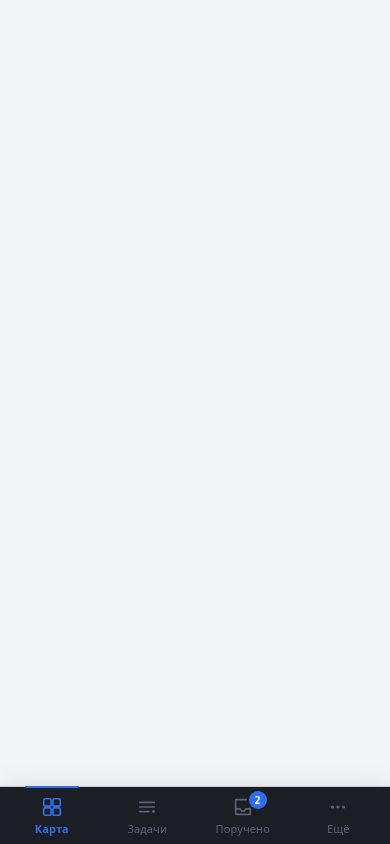
Test: MobileNav › «Ещё» открывает шторку с левой панелью; выбор направления закрывает шторку и открывает карту проектов
The width and height of the screenshot is (390, 844).
Click the button "Ещё": coordinates (338, 816) left=290, top=787, right=386, bottom=843
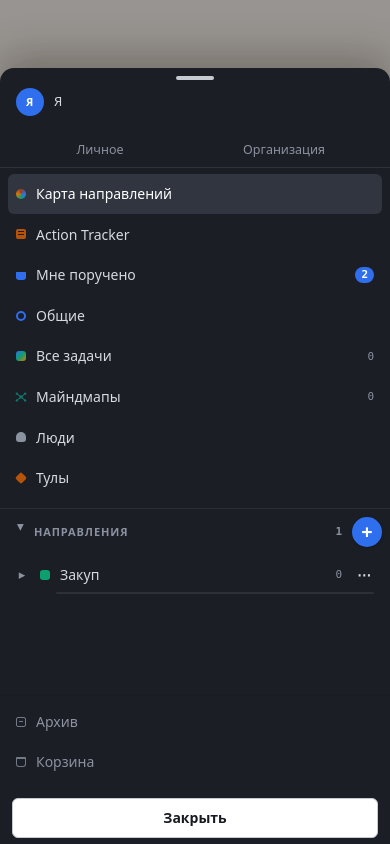
expect the dialog named "Разделы и направления" is shown: met
Click the text "Закуп": coordinates (80, 574) left=60, top=565, right=99, bottom=584
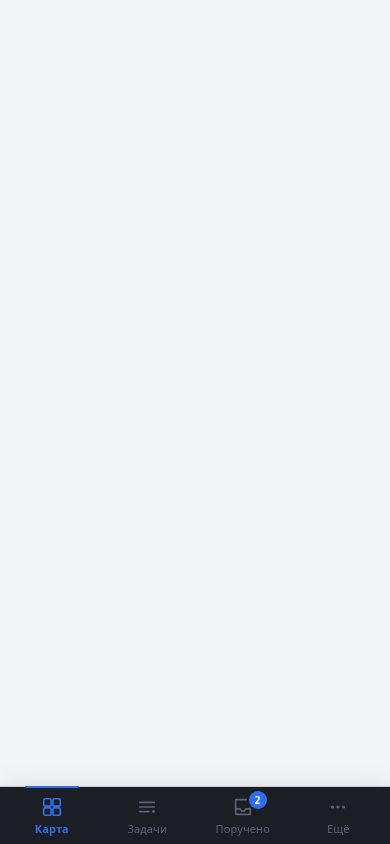
expect the dialog is gone: met
